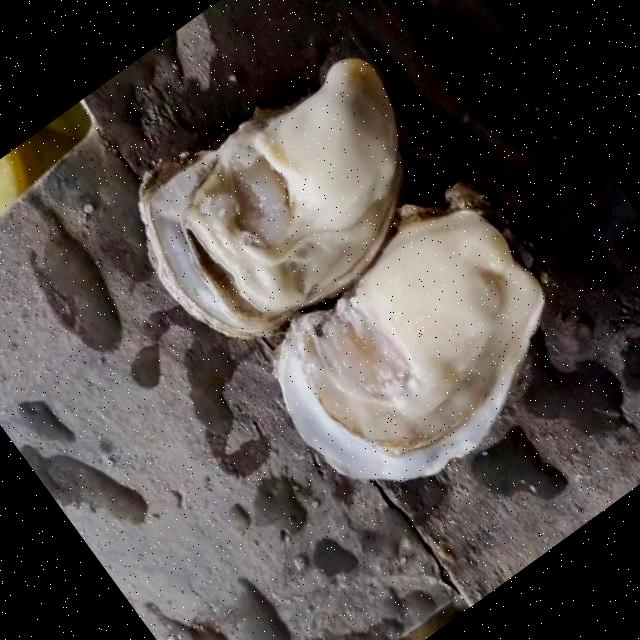Oyster-Open: (274, 184, 554, 482), (140, 58, 406, 344)
